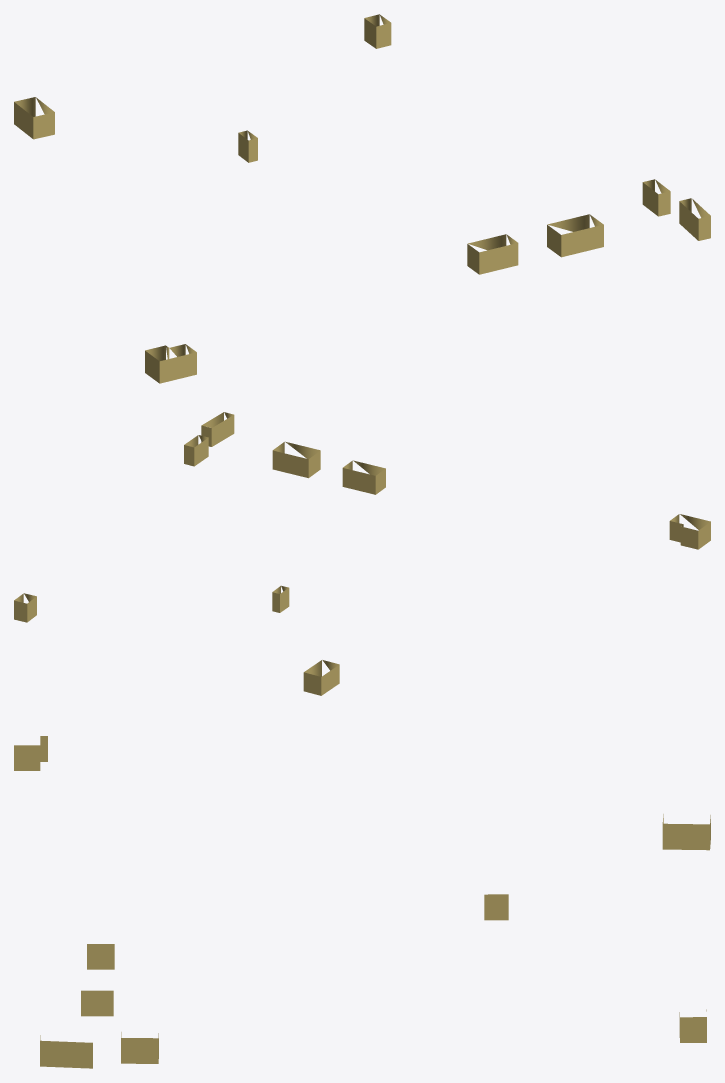
3 views of the same model, one above another, from view 1: azimuth 30°, elevation 25°; view 2: azimuth 150°, elevation 25°; view 3: azimuth 270°, elevation 25° (orthographic). The views are drawn at different scales.
Bounding box in the file's own units: 198 × 7.5 × 183.
